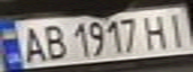1: (66, 20, 90, 58), (106, 17, 124, 55)
7: (118, 15, 142, 53)
9: (87, 19, 109, 56)
A: (15, 24, 48, 64)
B: (36, 21, 69, 61)
H: (139, 11, 172, 51)
I: (160, 9, 193, 48)
